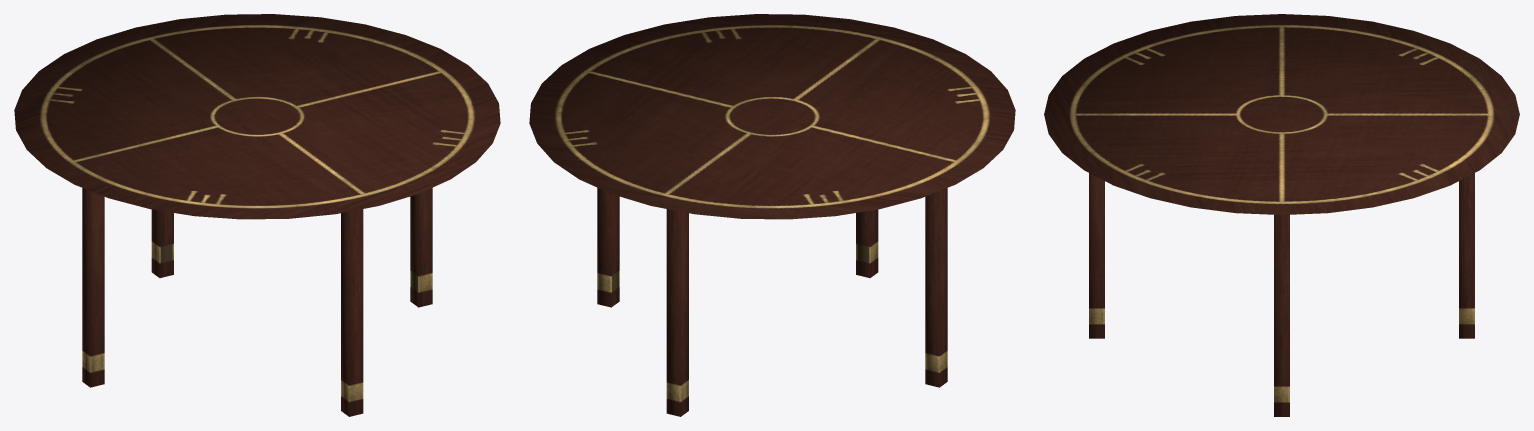
Rendered from table.glb.
3 views of the same model, side by side, from view 1: azimuth 30°, elevation 25°; view 2: azimuth 150°, elevation 25°; view 3: azimuth 270°, elevation 25° (orthographic). The views are drawn at different scales.
Visible parts, largest first — view 1: Table_Low; view 2: Table_Low; view 3: Table_Low.
Part boxes in pixels (x1=…): Table_Low: x1=14, y1=14, x2=500, y2=416; Table_Low: x1=529, y1=14, x2=1015, y2=416; Table_Low: x1=1044, y1=14, x2=1519, y2=416.
Bounding box in the file's own units: 6 × 3.07 × 6.
1 material, 1 textured.
